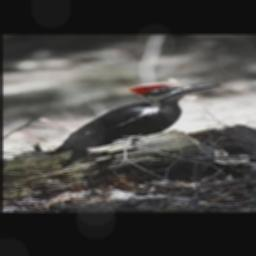Woodpecker: (45, 82, 219, 164)
